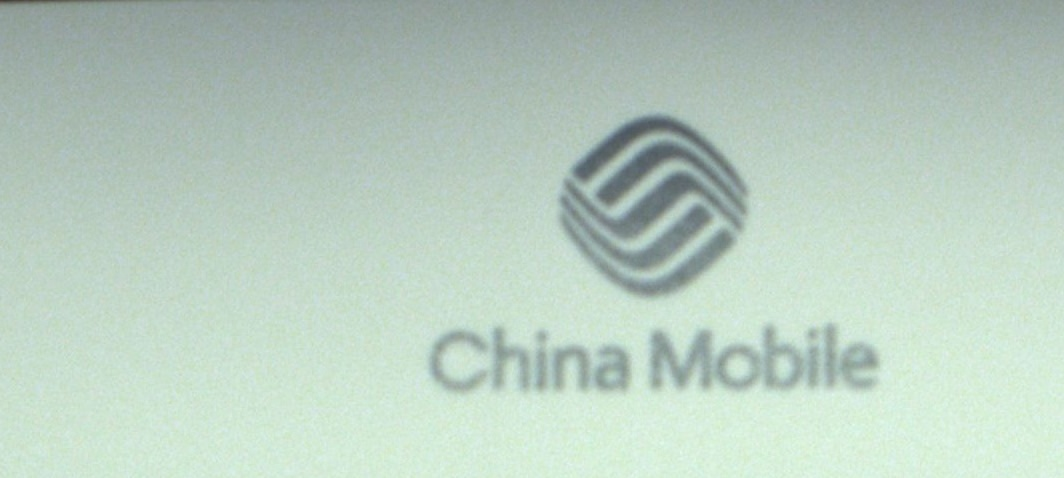AA_ChinaMobile: (430, 110, 887, 398)
